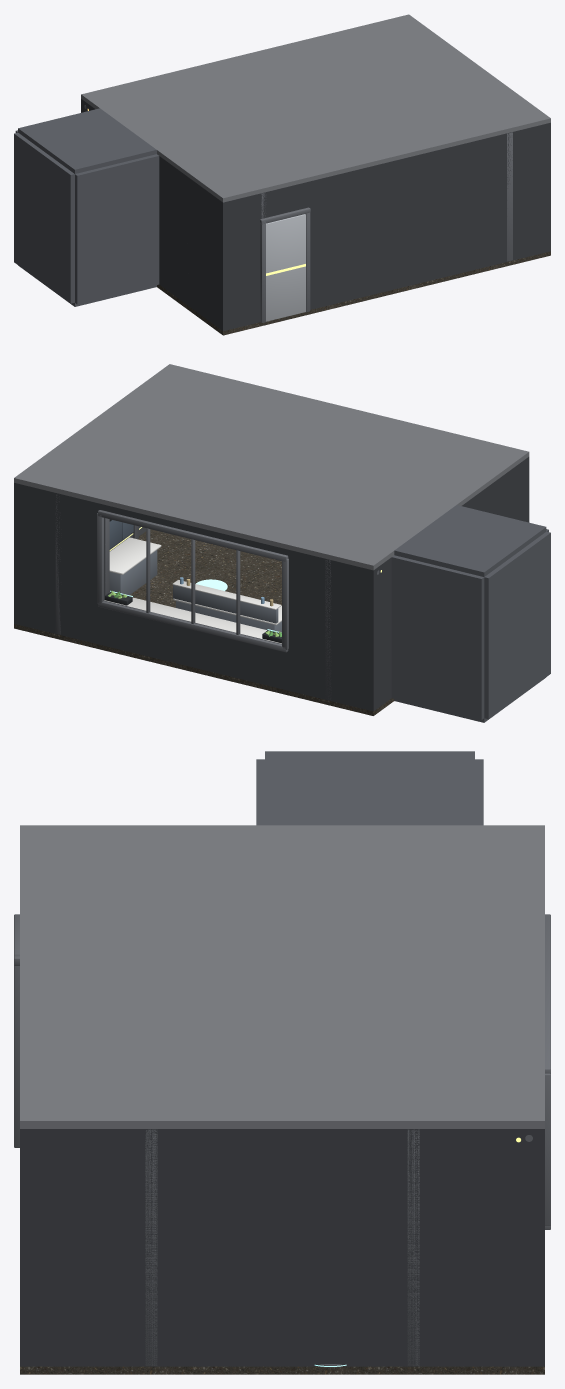
The model's file is lab.glb.
3 views of the same model, one above another, from view 1: azimuth 30°, elevation 25°; view 2: azimuth 150°, elevation 25°; view 3: azimuth 270°, elevation 25° (orthographic). The views are drawn at different scales.
Visible parts, largest first — view 1: LAB_static; view 2: LAB_static, LAB_detail; view 3: LAB_static.
Boxes of the visible parts, left/top/right/bottom form: LAB_static: left=14, top=14, right=550, bottom=335; LAB_static: left=14, top=364, right=550, bottom=722; LAB_detail: left=108, top=527, right=381, bottom=636; LAB_static: left=14, top=751, right=550, bottom=1374.
Size of the model in its own units: 10.14 by 3.2 by 6.14.
Materials: 33 (1 with a texture image).
